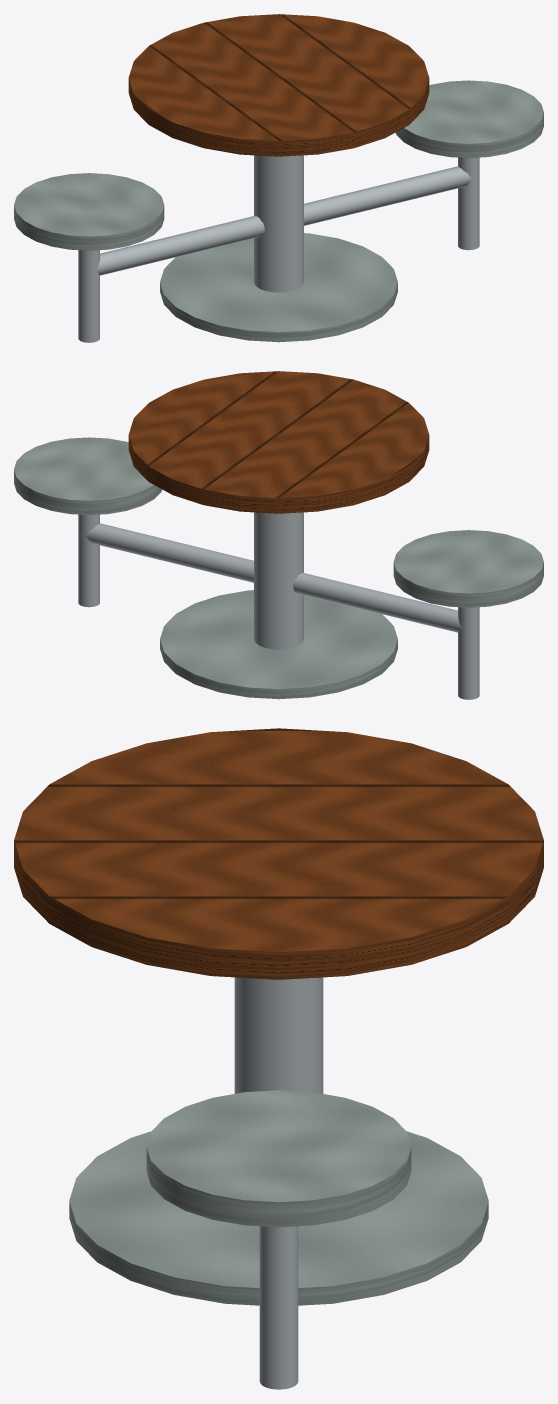
Rendered from liminal-spaces-kit-food-court-table-b2a0a1d4__25269.glb.
3 views of the same model, one above another, from view 1: azimuth 30°, elevation 25°; view 2: azimuth 150°, elevation 25°; view 3: azimuth 270°, elevation 25° (orthographic). The views are drawn at different scales.
Visible parts, largest first — view 1: food-court-table; view 2: food-court-table; view 3: food-court-table.
Boxes of the visible parts, x1=… form: food-court-table: x1=14, y1=14, x2=543, y2=342; food-court-table: x1=14, y1=371, x2=543, y2=699; food-court-table: x1=14, y1=728, x2=543, y2=1389.
Size of the model in its own units: 1.88 by 0.755 by 0.96.
Materials: 3 (2 with a texture image).
